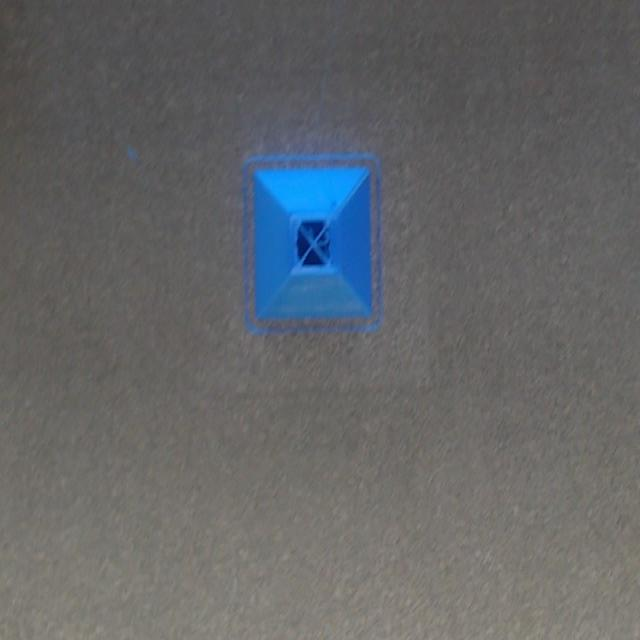mistake: (291, 212, 336, 272)
